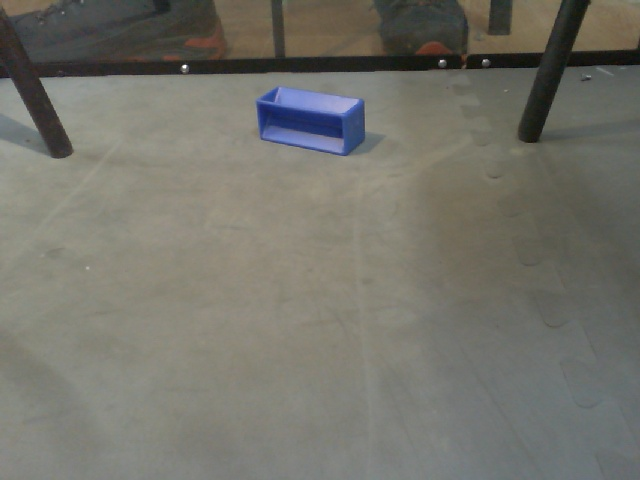BlueSample: (253, 84, 371, 164)
